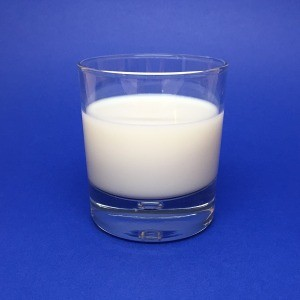milk_brain food: (75, 90, 228, 203)
